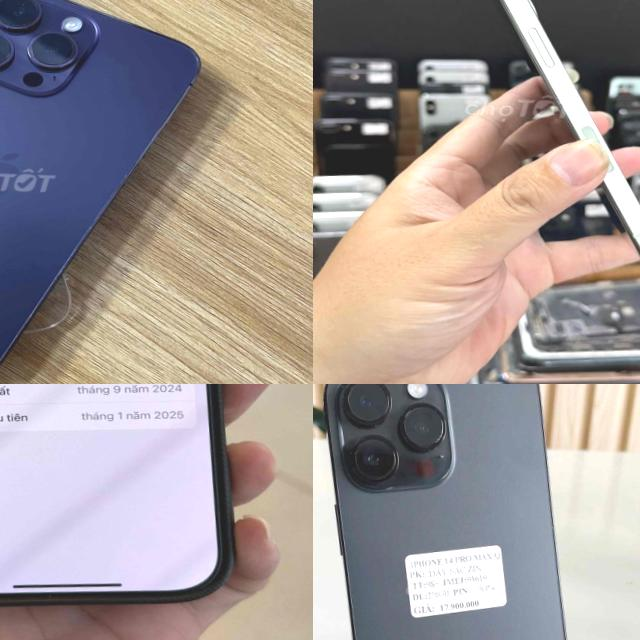gen_12_13: (461, 0, 640, 274)
gen_14: (0, 0, 205, 384), (313, 384, 601, 640)
gen_15: (0, 384, 252, 620)
